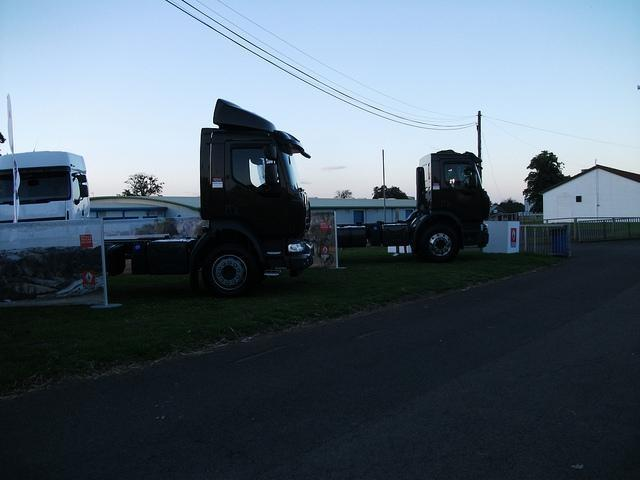truck: (104, 98, 318, 296), (306, 151, 494, 262)
